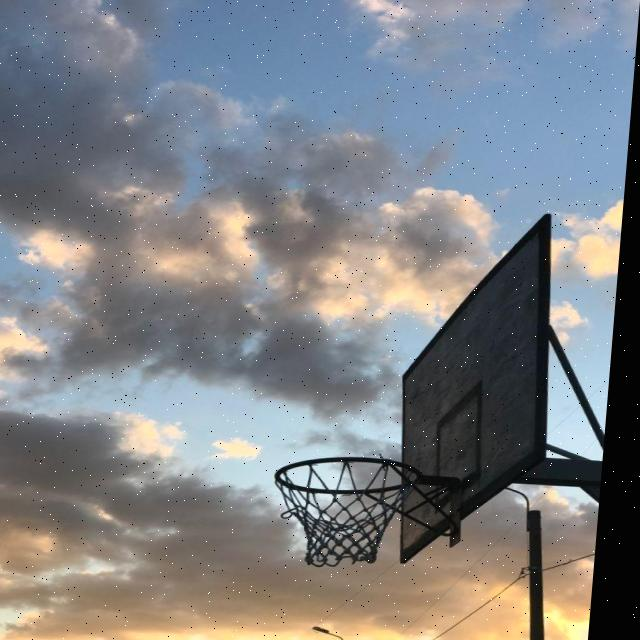hoop: (272, 450, 426, 567)
